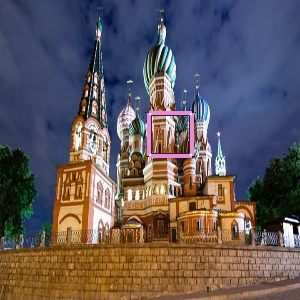square: (145, 111, 196, 161)
